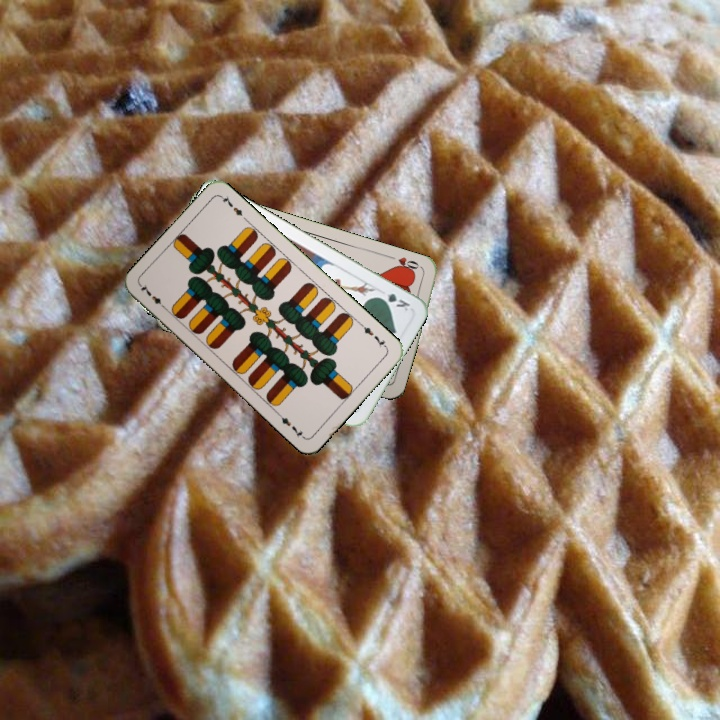E7: (136, 280, 169, 312), (357, 320, 390, 351)
GK: (374, 289, 413, 314)
HO: (385, 252, 425, 276)
